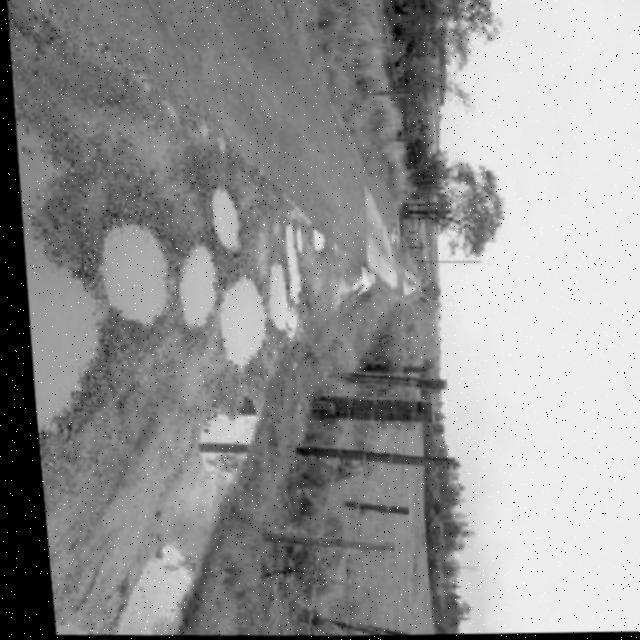pothole: (16, 223, 114, 443), (84, 217, 175, 331), (204, 273, 266, 372), (256, 259, 296, 342), (201, 182, 239, 260), (303, 227, 322, 253)
